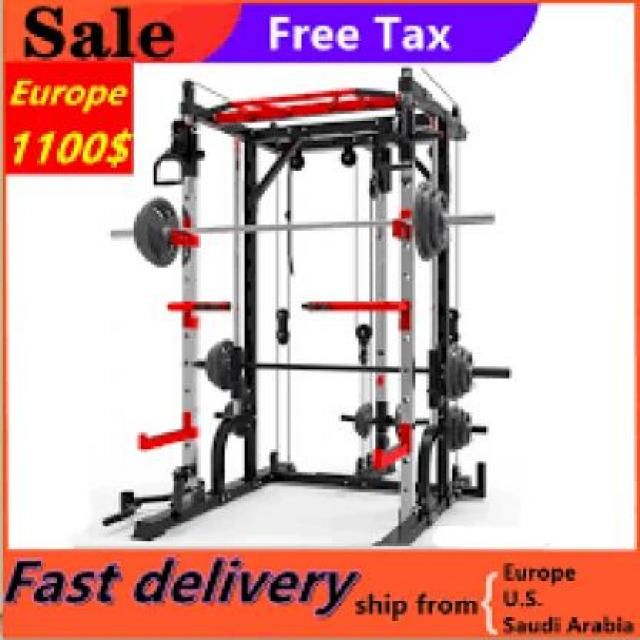smith machine: (142, 68, 510, 546)
